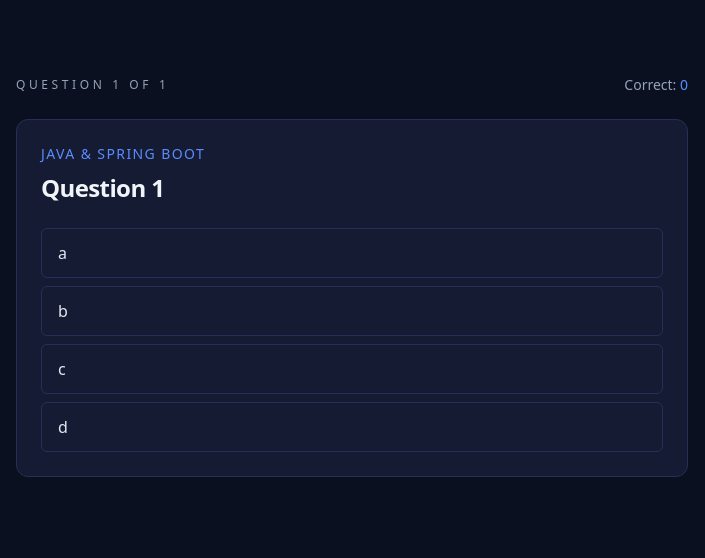
practice screen › summarises the score once every question is answered
The width and height of the screenshot is (705, 558).
What coordinates should you click on to do the following:
click the button "b"
I would click on:
 (63, 311)
Its box is [41, 286, 663, 336].
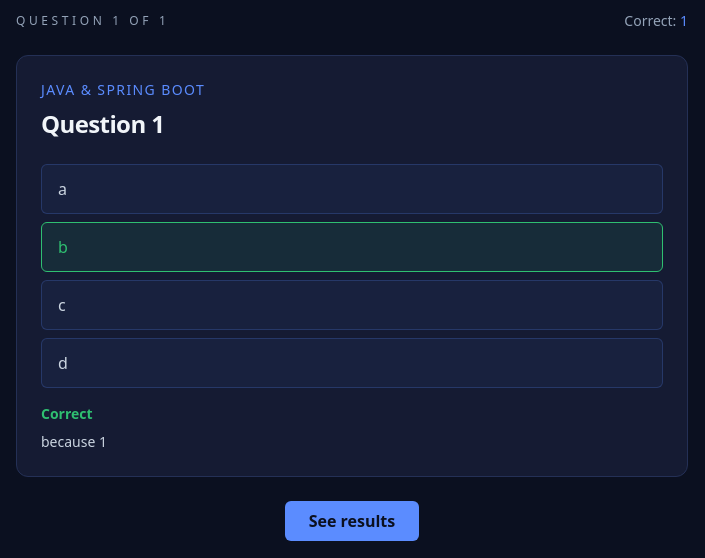
What coordinates should you click on to do the following:
click the button "See results"
I would click on:
 (352, 521)
Its box is [285, 501, 419, 541].
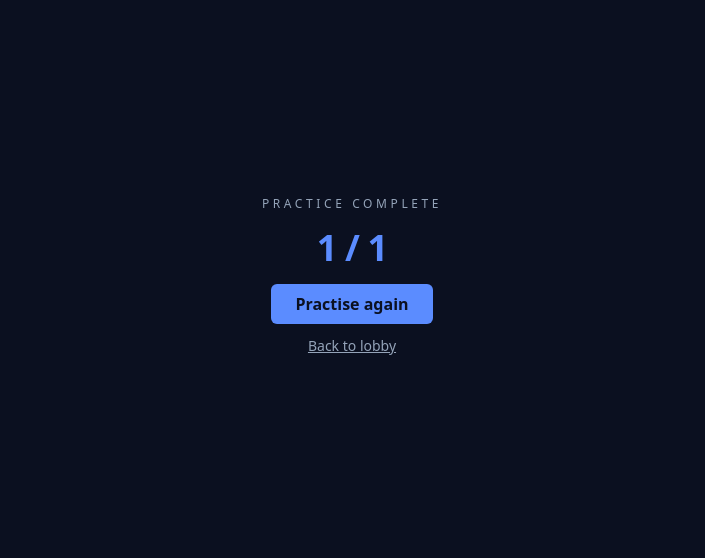
Expected: the heading "1 / 1" is shown, [317, 228, 387, 268]
Expected: the button "Practise again" is shown, [271, 284, 432, 324]
